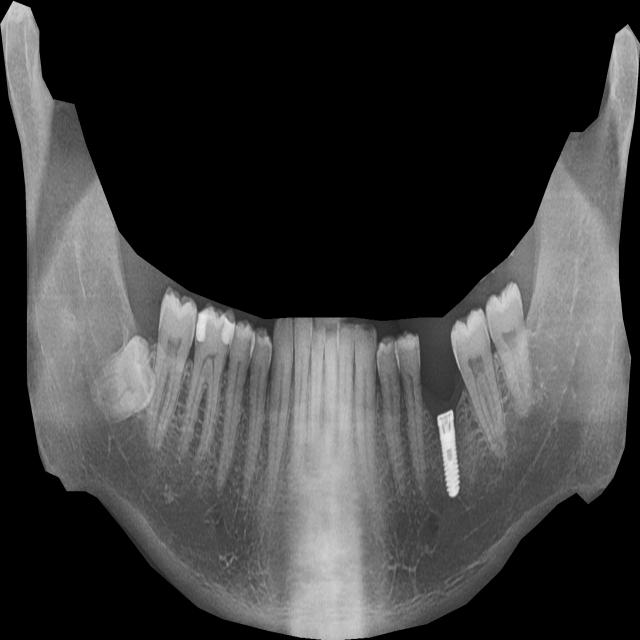mandibula: (0, 1, 640, 640)
